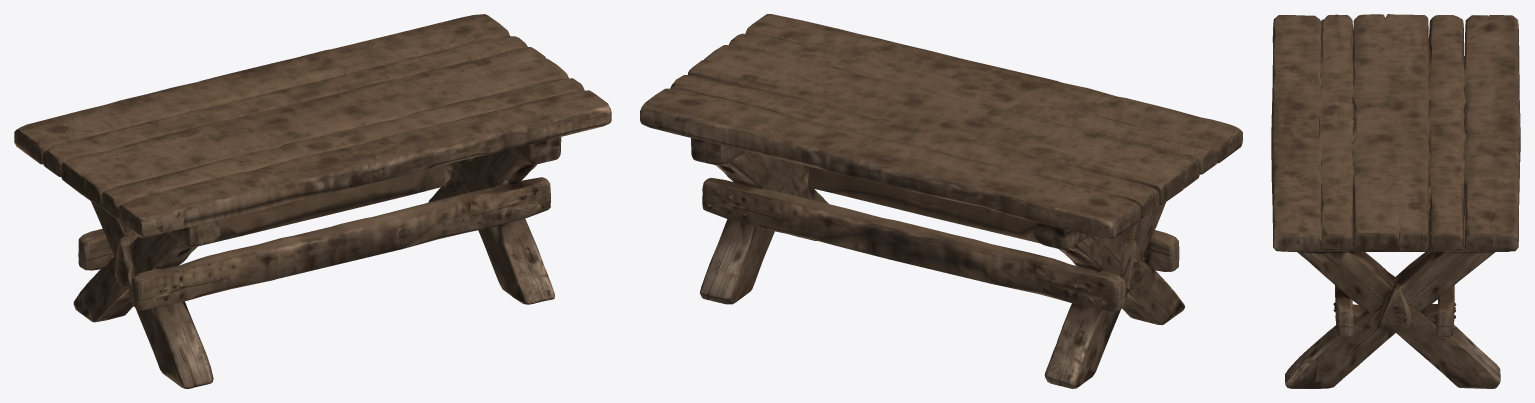
Rendered from panca.glb.
3 renders of one model, left to right at view 1: azimuth 30°, elevation 25°; view 2: azimuth 150°, elevation 25°; view 3: azimuth 270°, elevation 25°, orthographic. The views are drawn at different scales.
Parts seen in each view (by area): view 1: Mesh_0; view 2: Mesh_0; view 3: Mesh_0.
Part boxes in pixels (x1,y1,x2,y2): Mesh_0: (14, 14, 611, 388); Mesh_0: (640, 14, 1242, 388); Mesh_0: (1271, 14, 1520, 388).
Size of the model in its own units: 1.9 by 0.7286 by 0.9135.
1 material, 1 textured.
